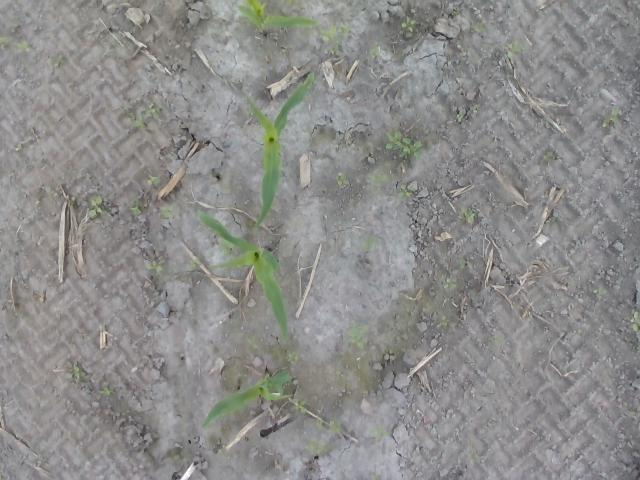Maize: (234, 70, 318, 232), (195, 208, 291, 342), (202, 369, 290, 430), (232, 2, 318, 39)
Weeds: (385, 130, 423, 160), (0, 36, 31, 54), (351, 322, 369, 348), (322, 25, 351, 40), (368, 424, 393, 440), (87, 196, 102, 219), (506, 40, 524, 58), (602, 110, 620, 128), (367, 174, 395, 185), (308, 438, 326, 455), (401, 15, 417, 32), (465, 206, 478, 226), (336, 170, 351, 186), (145, 259, 162, 273), (630, 310, 640, 333), (146, 104, 161, 118), (65, 367, 80, 380), (442, 278, 457, 291), (132, 118, 146, 129), (365, 238, 378, 249), (295, 400, 305, 414), (398, 190, 412, 200), (162, 206, 174, 217), (368, 46, 382, 55), (472, 22, 484, 32), (438, 315, 448, 327), (330, 422, 340, 433), (150, 175, 162, 184), (329, 46, 340, 55), (99, 387, 110, 396), (288, 352, 297, 362), (131, 207, 141, 216), (456, 112, 464, 122), (189, 260, 197, 269)
